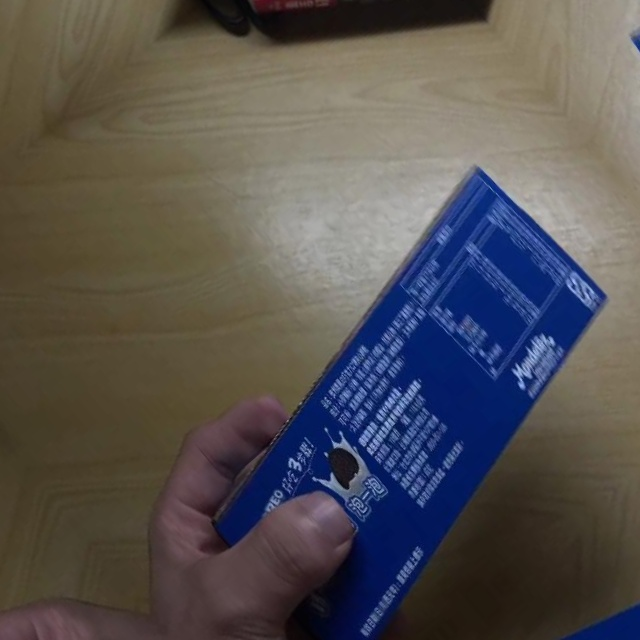Oreo: (141, 152, 640, 640)
